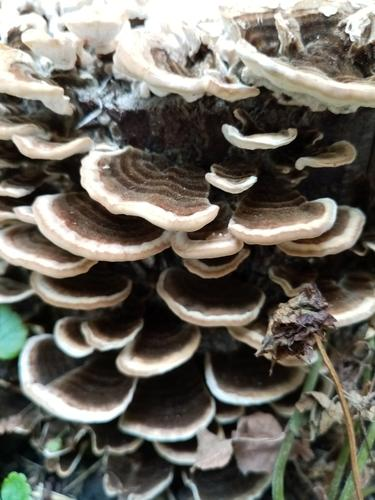poisonous_mushroom: (0, 0, 374, 499), (78, 142, 220, 233)
